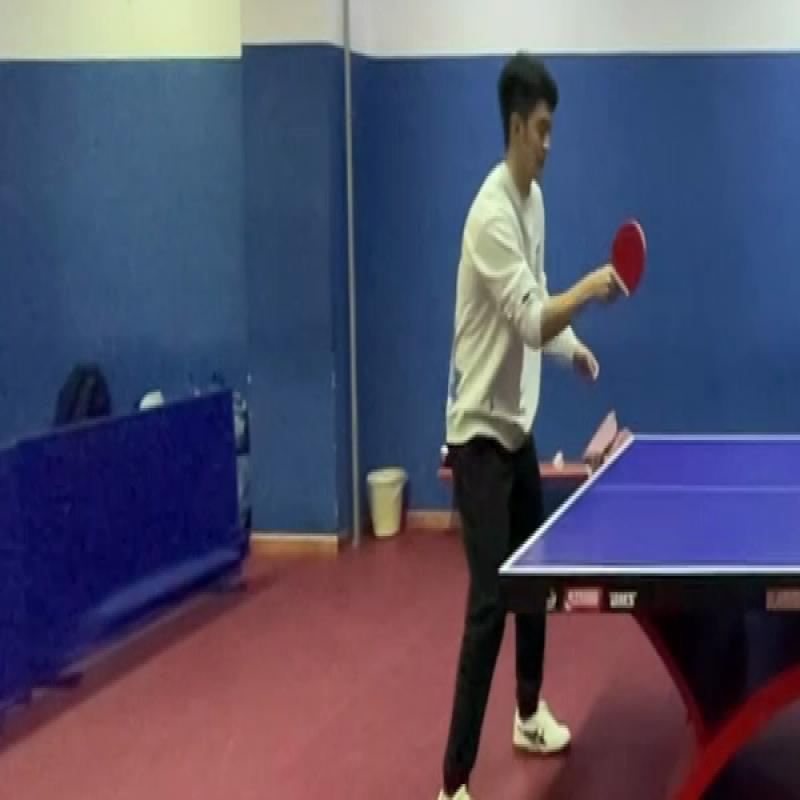bats: (597, 213, 652, 311)
